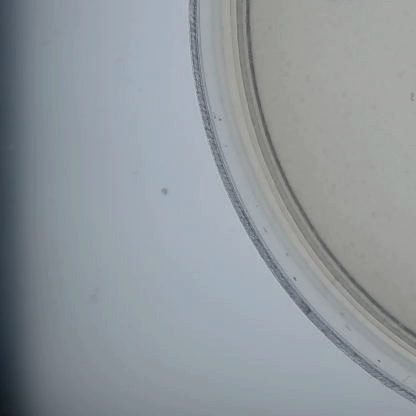worm: (391, 88, 416, 111)
